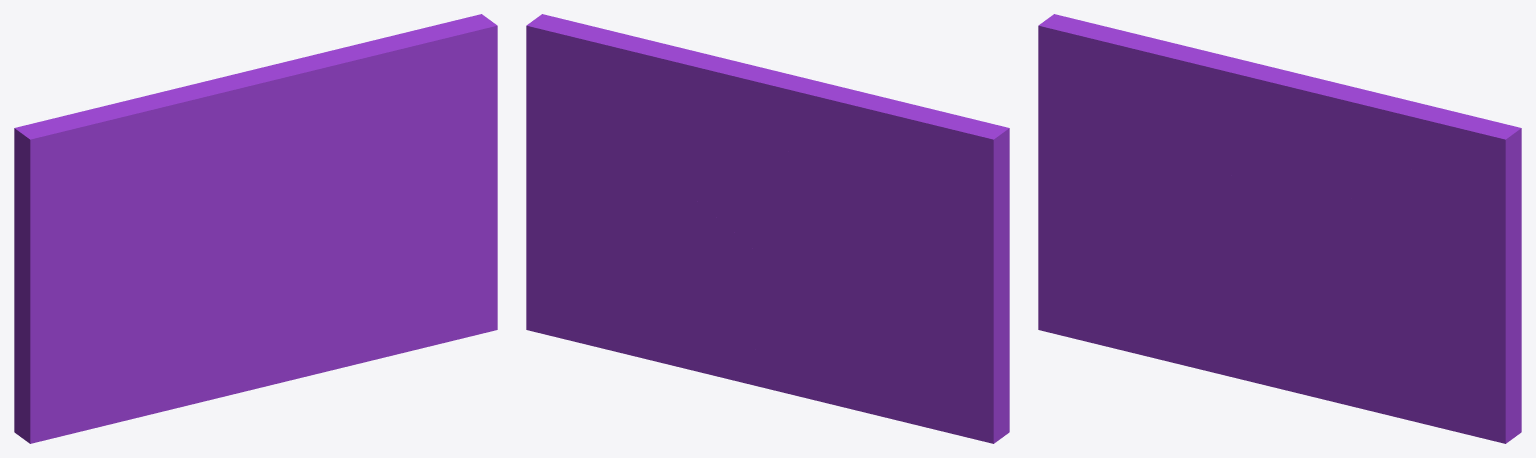
File: Barrier_71_chunks.fbx
3 renders of one model, left to right at view 1: azimuth 30°, elevation 25°; view 2: azimuth 150°, elevation 25°; view 3: azimuth 330°, elevation 25°, orthographic.
Parts seen in each view (by area): view 1: Barrier_71_2, Barrier_71_0, Barrier_71_4, Barrier_71_3, Barrier_71_5, Barrier_71_1; view 2: Barrier_71_0, Barrier_71_2, Barrier_71_1, Barrier_71_3, Barrier_71_4, Barrier_71_5, Barrier_71_6; view 3: Barrier_71_2, Barrier_71_0, Barrier_71_4, Barrier_71_3, Barrier_71_5, Barrier_71_1.
Boxes of the visible parts, x1,y1,x2,y2 form: Barrier_71_2: (260, 22, 497, 387); Barrier_71_0: (14, 152, 261, 443); Barrier_71_4: (217, 32, 468, 241); Barrier_71_3: (14, 113, 227, 231); Barrier_71_5: (74, 66, 277, 143); Barrier_71_1: (349, 14, 492, 53); Barrier_71_0: (755, 163, 1009, 443); Barrier_71_2: (526, 14, 756, 385); Barrier_71_1: (526, 17, 789, 251); Barrier_71_3: (810, 110, 1009, 213); Barrier_71_4: (572, 21, 796, 218); Barrier_71_5: (742, 67, 936, 141); Barrier_71_6: (785, 124, 849, 216); Barrier_71_2: (1268, 135, 1521, 443); Barrier_71_0: (1038, 64, 1269, 386); Barrier_71_4: (1225, 75, 1476, 239); Barrier_71_3: (1038, 14, 1235, 214); Barrier_71_5: (1111, 28, 1305, 120); Barrier_71_1: (1388, 95, 1521, 156).
Bounding box in the file's own units: 462 × 288 × 27.2.
